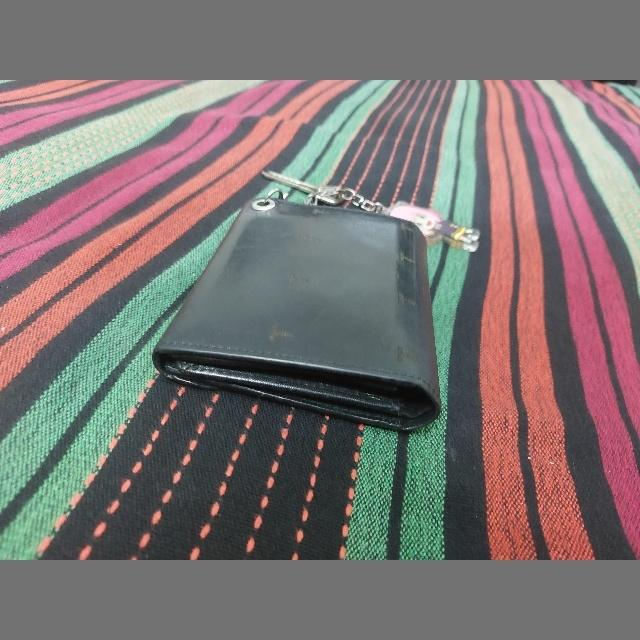Wallet: (128, 187, 452, 453)
